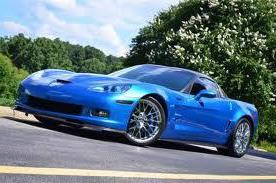Car: (8, 53, 266, 162)
